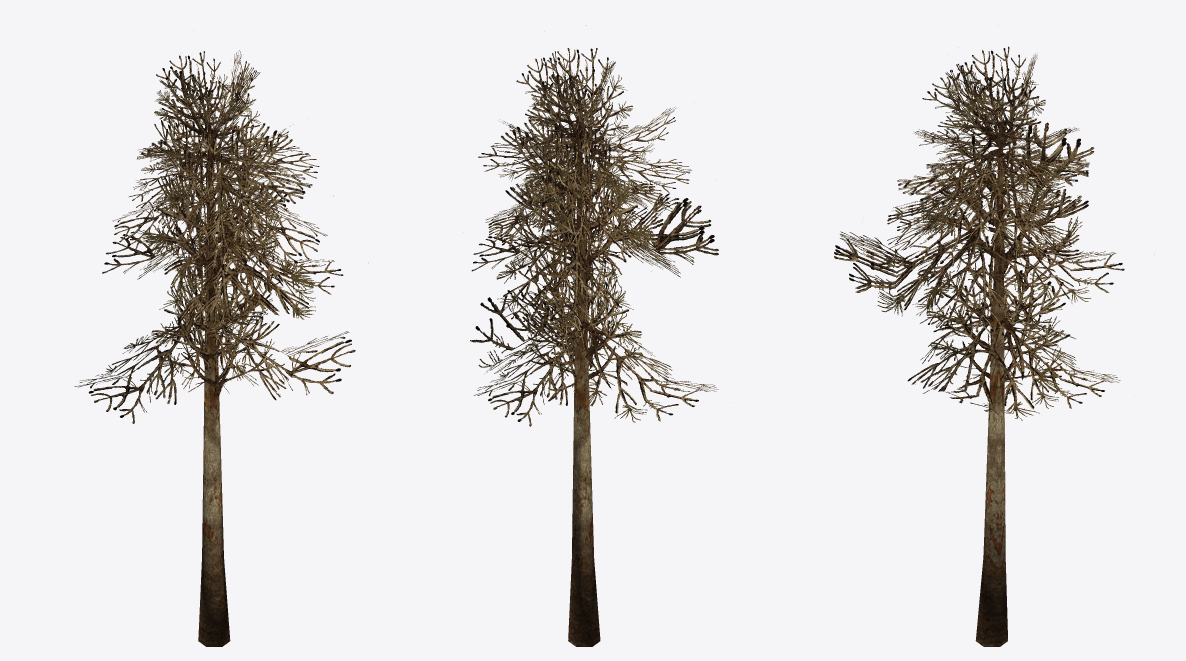
The model's file is flora_tree_pine_black_dead.glb.
3 renders of one model, left to right at view 1: azimuth 30°, elevation 25°; view 2: azimuth 150°, elevation 25°; view 3: azimuth 270°, elevation 25°, orthographic.
Visible parts, largest first — view 1: flora_tree_pine_black_dead_part0; view 2: flora_tree_pine_black_dead_part0; view 3: flora_tree_pine_black_dead_part0.
Part boxes in pixels (x1,y1,x2,y2): flora_tree_pine_black_dead_part0: (74,50,355,646); flora_tree_pine_black_dead_part0: (470,48,718,646); flora_tree_pine_black_dead_part0: (834,46,1124,646).
Size of the model in its own units: 14.38 by 26.19 by 14.58.
1 material, 1 textured.
